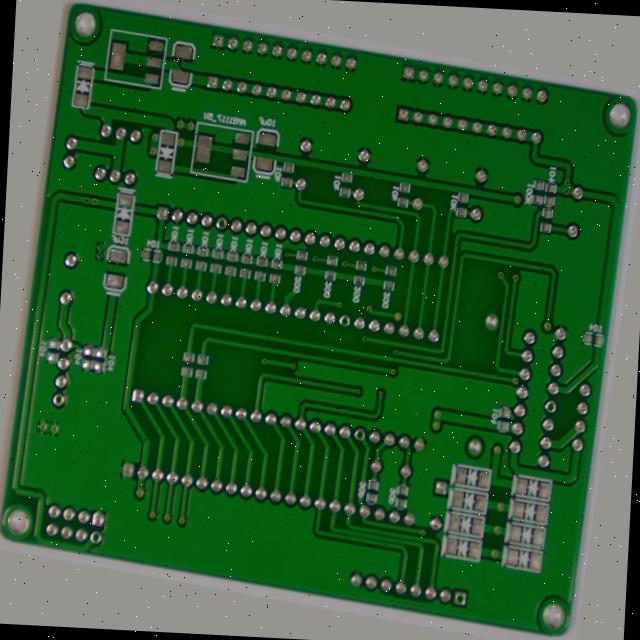missing_hole: (364, 431, 381, 454), (566, 374, 584, 394), (38, 439, 55, 458), (488, 601, 504, 621), (339, 309, 354, 329), (199, 218, 213, 237)
